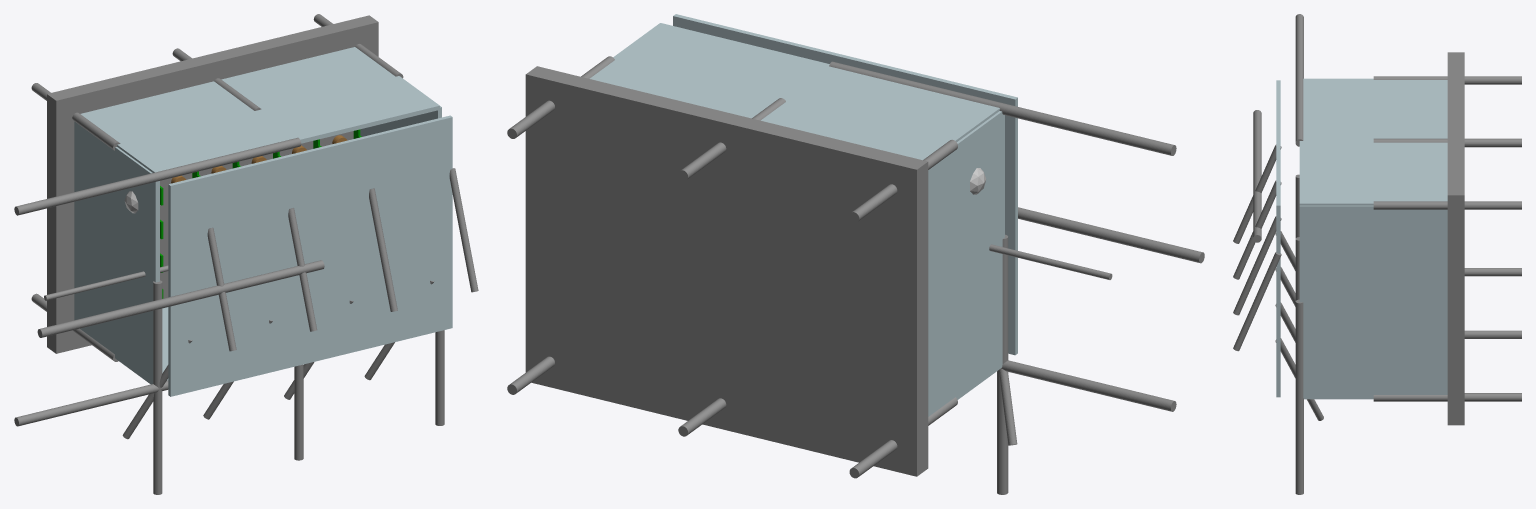
File: greenhouse.glb
The picture shows the model from 3 angles, left to right: view 1: azimuth 30°, elevation 25°; view 2: azimuth 150°, elevation 25°; view 3: azimuth 270°, elevation 25°; orthographic projection. The views are drawn at different scales.
Parts seen in each view (by area): view 1: world; view 2: world; view 3: world.
Part boxes in pixels (bbox=[...]): world: bbox=[14, 14, 478, 494]; world: bbox=[507, 14, 1204, 494]; world: bbox=[1233, 14, 1521, 494].
Size of the model in its own units: 11 by 8 by 6.82.
